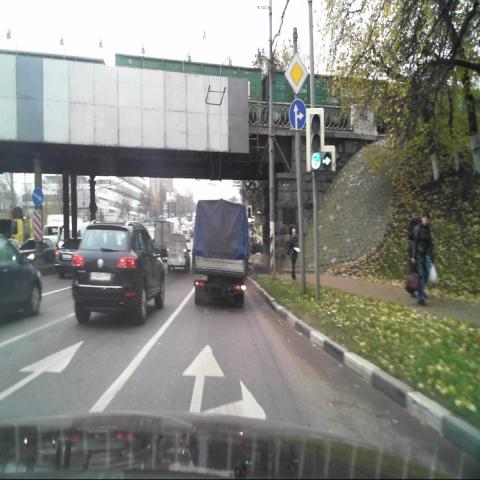4_1_4: (288, 98, 307, 133)
